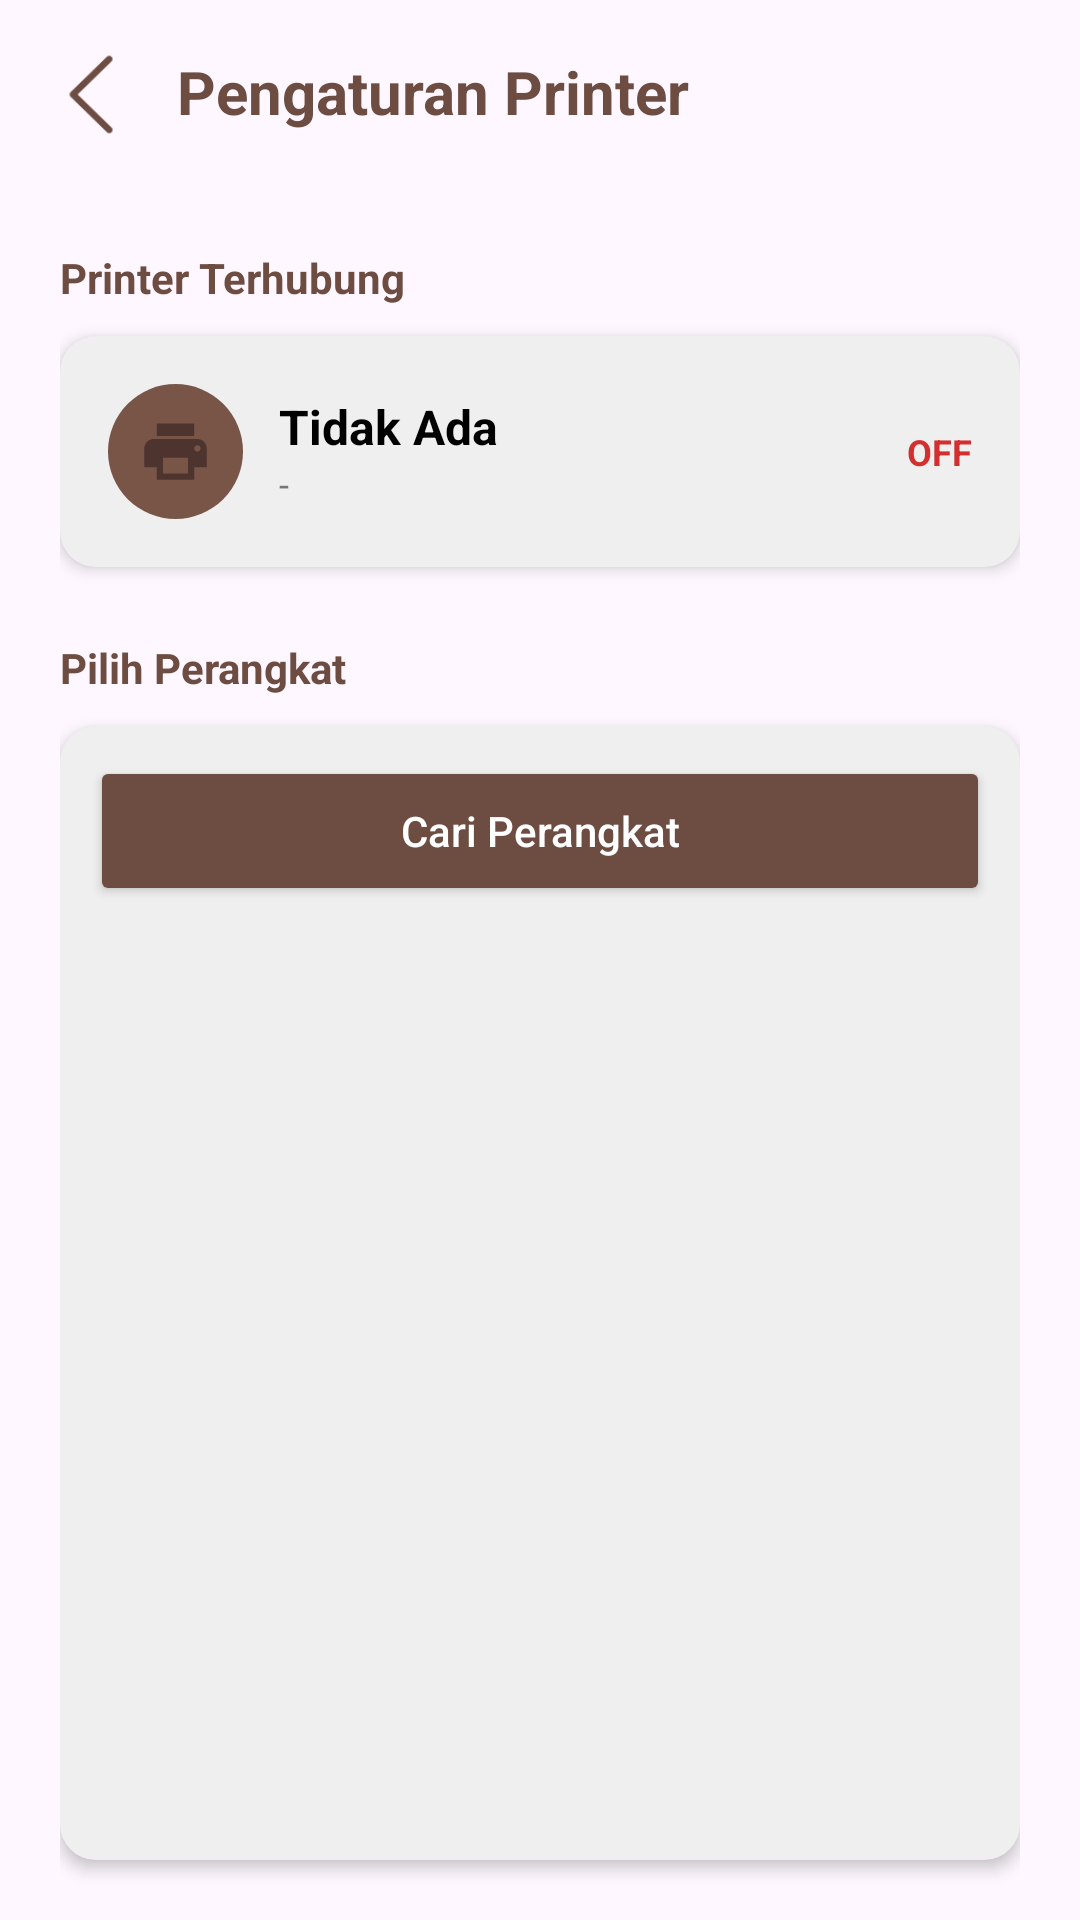

Named icons in this screenshot (1080w x 1920h) and their centers, [x,y]:
Kembali: [91,94]
